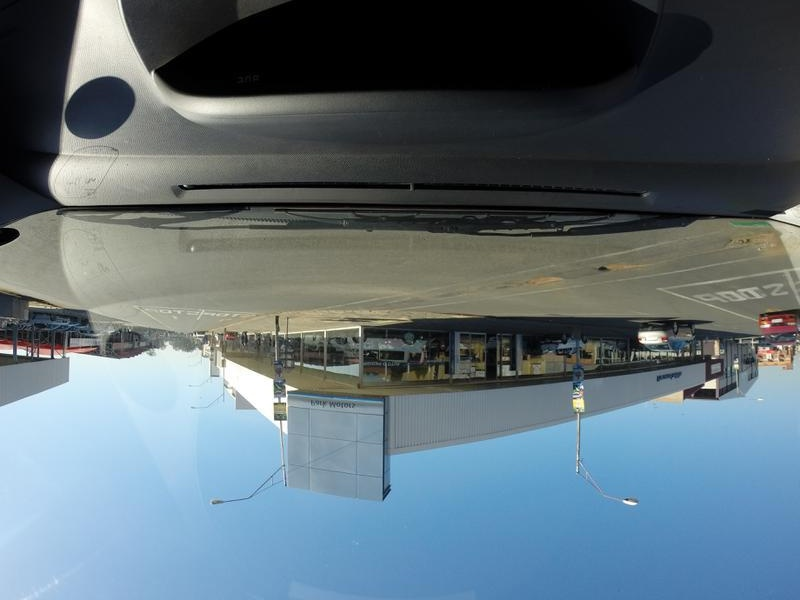pothole: (520, 264, 577, 301), (720, 227, 776, 259), (595, 256, 642, 281)
